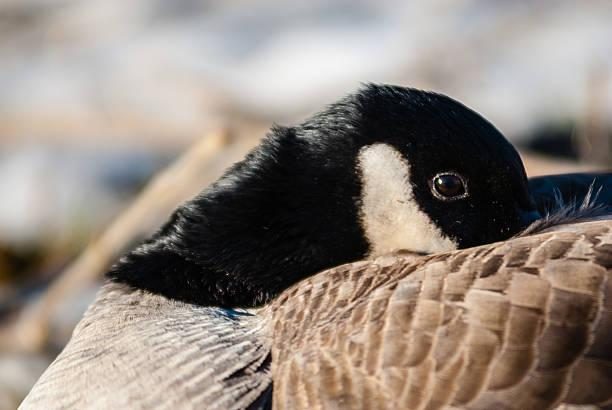Canadian-Goose: (12, 86, 610, 410)
